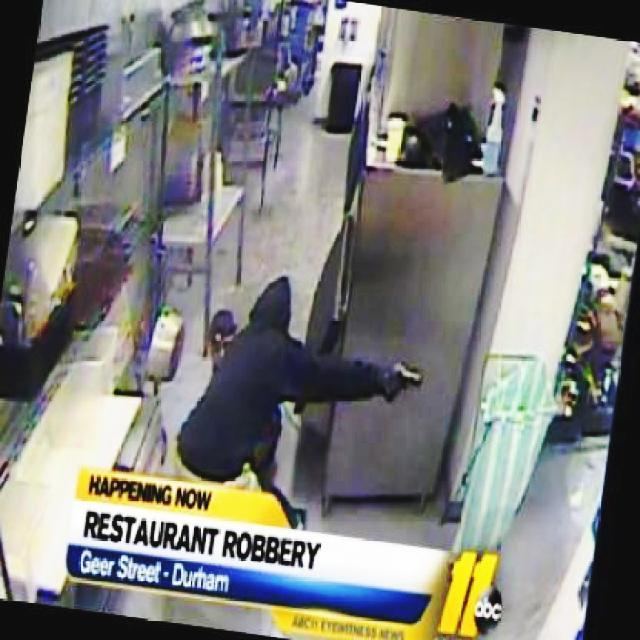Gun: (391, 356, 431, 404)
